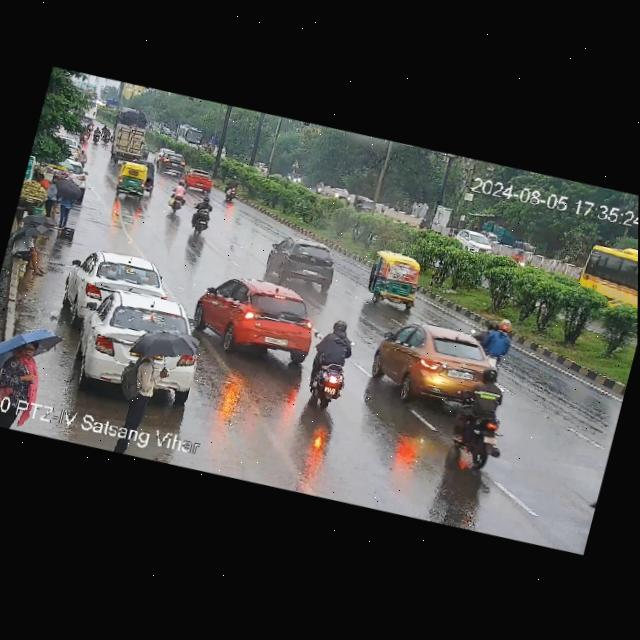bus: (572, 230, 638, 310), (68, 89, 107, 128), (175, 123, 208, 150)
car: (69, 283, 233, 424), (355, 301, 510, 422), (189, 257, 327, 371), (54, 240, 185, 346), (251, 220, 357, 298), (358, 246, 434, 323), (42, 155, 93, 201), (110, 158, 153, 204), (451, 222, 500, 258), (154, 149, 189, 181), (182, 166, 217, 195), (351, 188, 379, 216), (57, 130, 83, 157), (151, 142, 175, 165), (329, 185, 353, 205), (255, 159, 272, 174), (158, 125, 176, 137)
motorcycle: (438, 356, 537, 484), (295, 301, 363, 421), (465, 310, 530, 384), (178, 190, 227, 244), (217, 166, 252, 208), (163, 177, 194, 219), (509, 246, 530, 268), (72, 145, 89, 169), (416, 214, 432, 233), (79, 123, 92, 144), (312, 179, 327, 195), (100, 127, 113, 145), (90, 126, 102, 145), (99, 122, 109, 137)
person: (109, 320, 205, 432), (0, 313, 71, 408), (0, 217, 56, 283), (47, 172, 90, 230), (13, 205, 56, 250), (32, 168, 57, 199)
truck: (107, 116, 155, 163), (113, 102, 150, 133), (207, 142, 229, 161)
